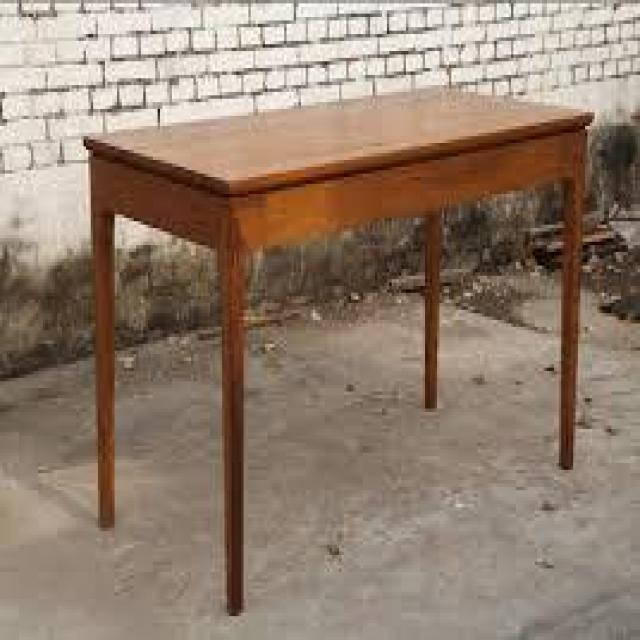table: (52, 53, 609, 594)
